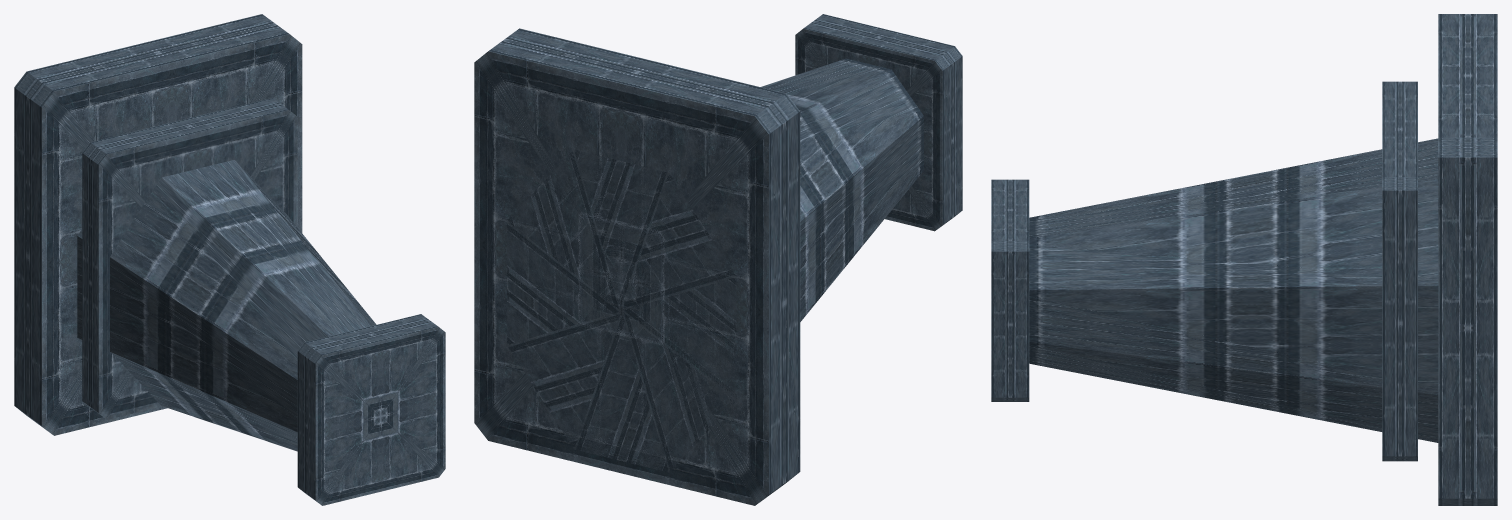
File: rv_buttress.obj
3 views of the same model, side by side, from view 1: azimuth 30°, elevation 25°; view 2: azimuth 150°, elevation 25°; view 3: azimuth 270°, elevation 25° (orthographic). The views are drawn at different scales.
Visible parts, largest first — view 1: rv_buttress; view 2: rv_buttress; view 3: rv_buttress.
Boxes of the visible parts, bbox=[...] form: rv_buttress: bbox=[14, 14, 445, 505]; rv_buttress: bbox=[474, 14, 962, 505]; rv_buttress: bbox=[991, 14, 1497, 505].
Size of the model in its own units: 3.8 by 4.8 by 5.97.
1 material, 1 textured.
